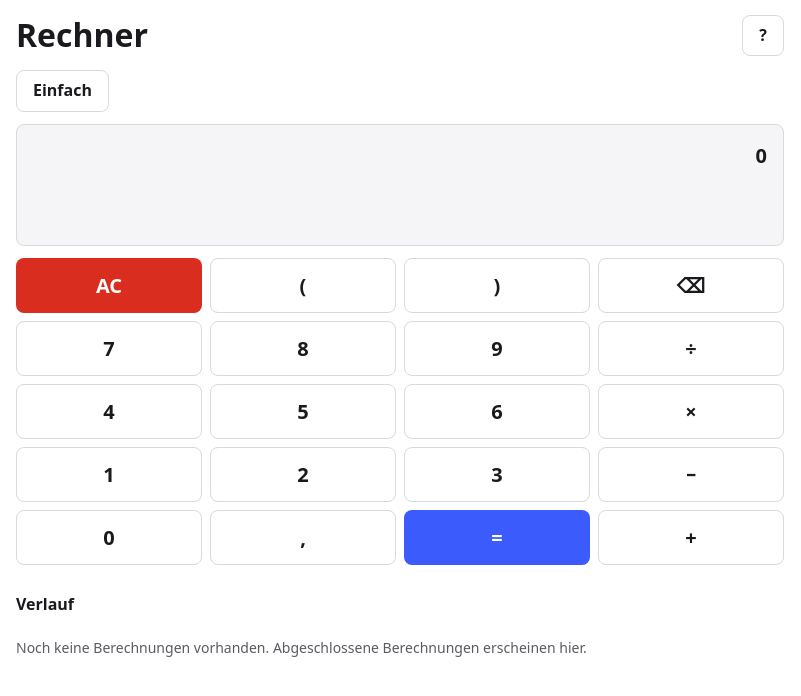
Test: CalculatorPage › AC leert Ausdruck und Ergebnis
Click the button "2". click: (303, 474)
box: [210,447,396,502]
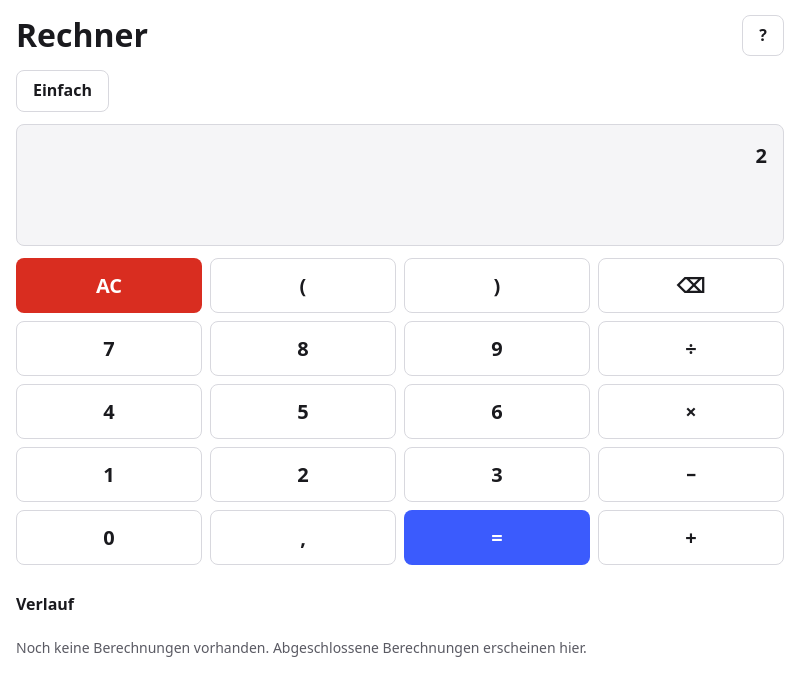
Click the button named "Plus". click: (691, 537)
box: [598,510,784,565]
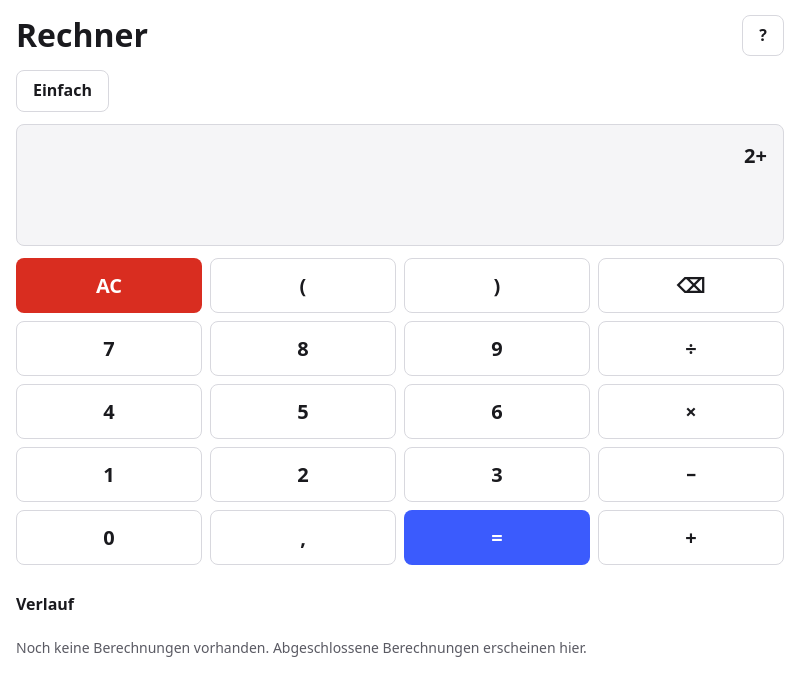
Click the button "3". click: (497, 474)
box: [404,447,590,502]
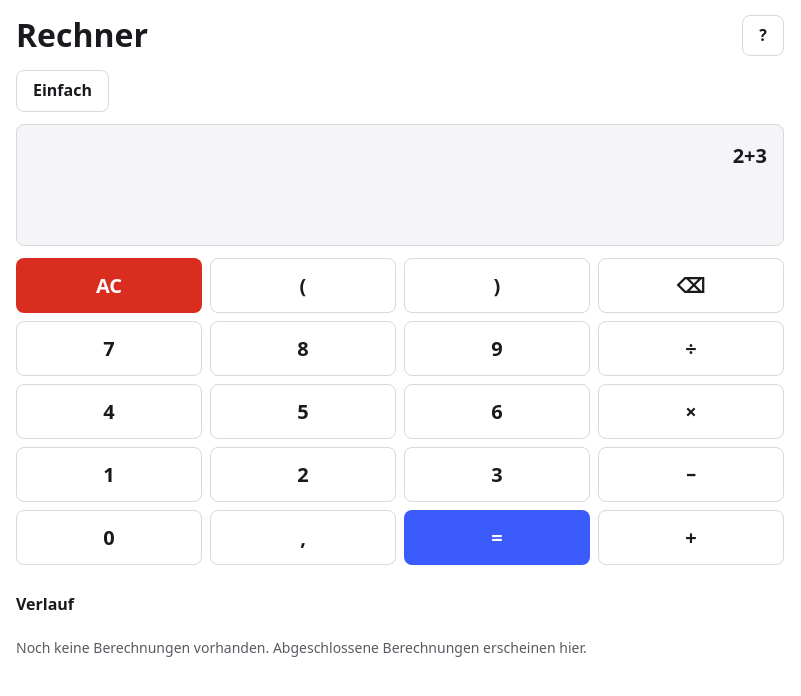
Click the button "=". click: (497, 537)
box: [404,510,590,565]
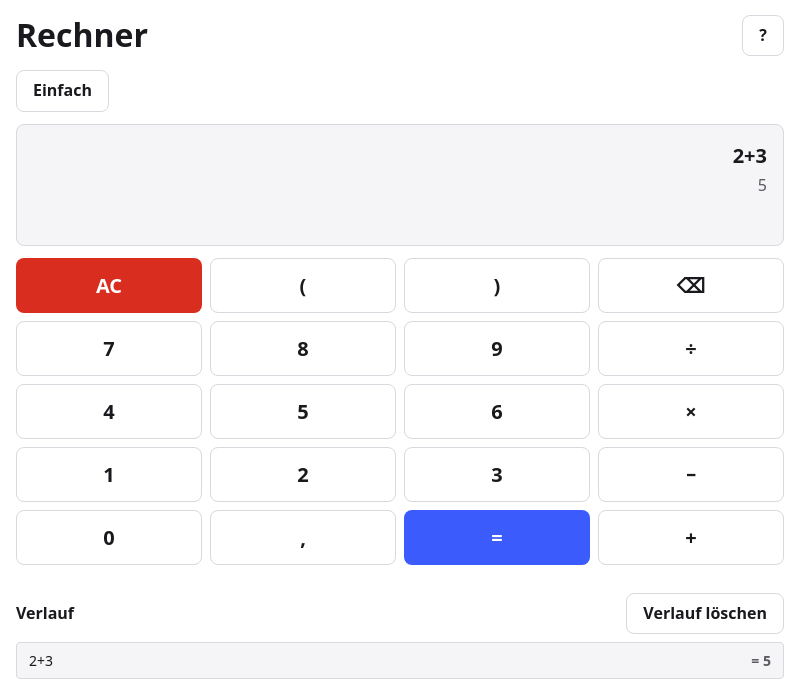
Click the button with aria-label "Alles löschen". click: (109, 285)
box: [16,258,202,313]
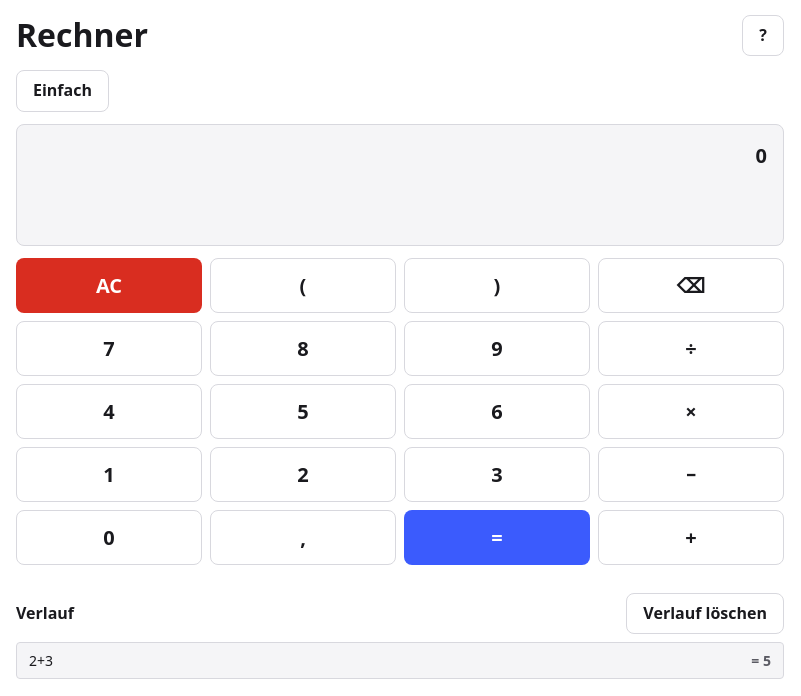
Now the text named "Ausdruck" reads "0", box [756,142,767,169]
